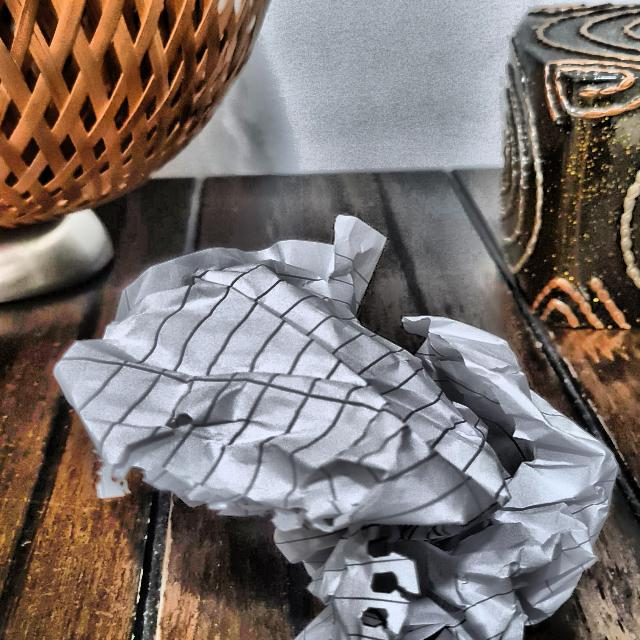paper: (71, 239, 612, 640)
